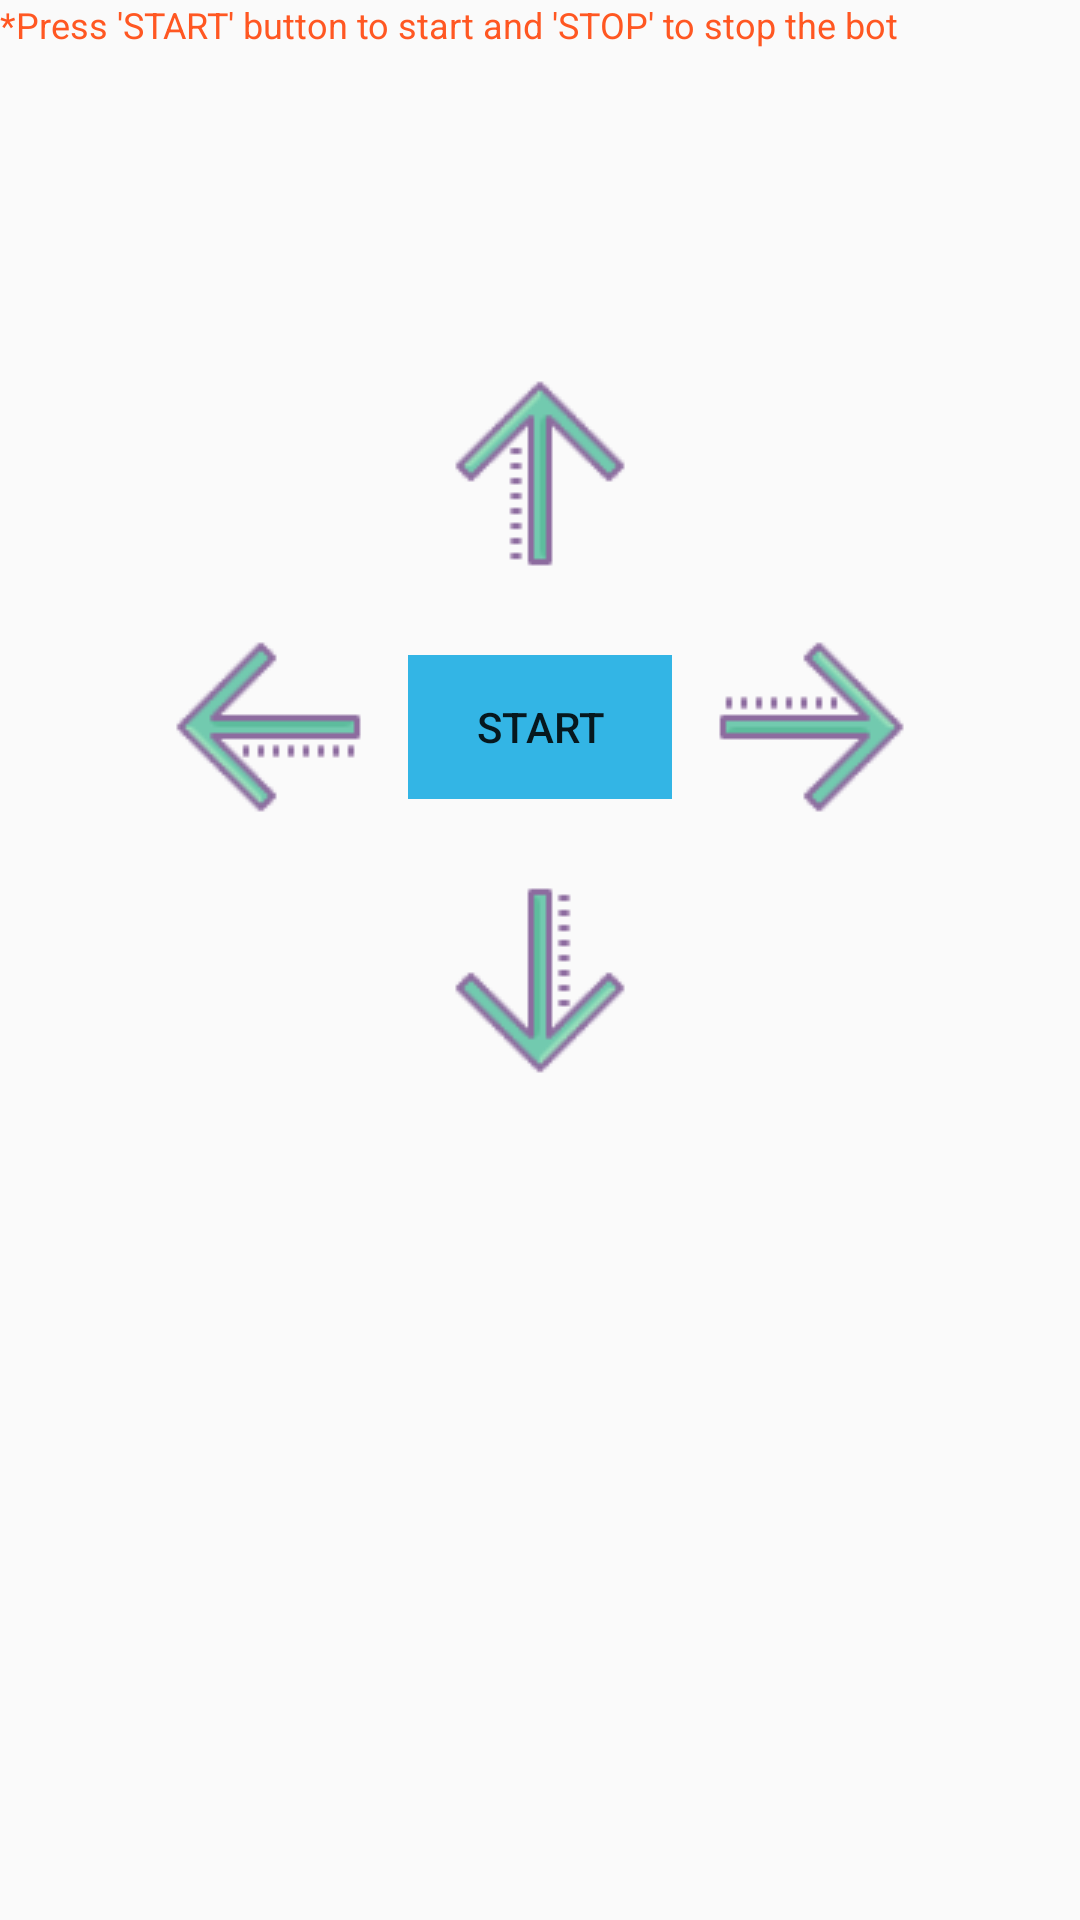

Named icons in this screenshot (1080 × 1920) and their centers, [x,y]:
down arrow: [540,980]
left arrow: [268,727]
right arrow: [811,727]
up arrow: [540,473]
